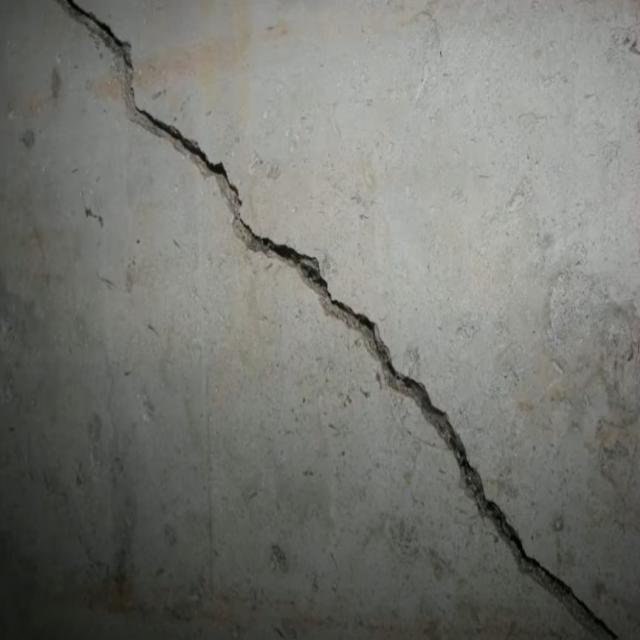Wall_Cracks: (47, 0, 622, 640)
